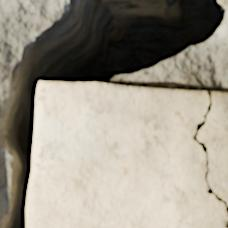brick: (27, 82, 227, 227), (198, 92, 227, 200)
broken_brick: (219, 0, 227, 5)
crack: (0, 0, 227, 227), (192, 91, 227, 217), (225, 219, 227, 227)
